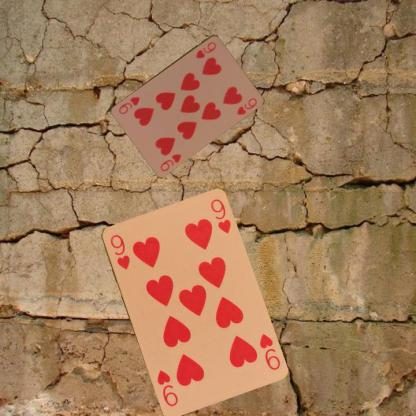9h: (257, 330, 282, 372), (107, 232, 131, 271), (193, 38, 217, 60), (158, 150, 182, 172)
